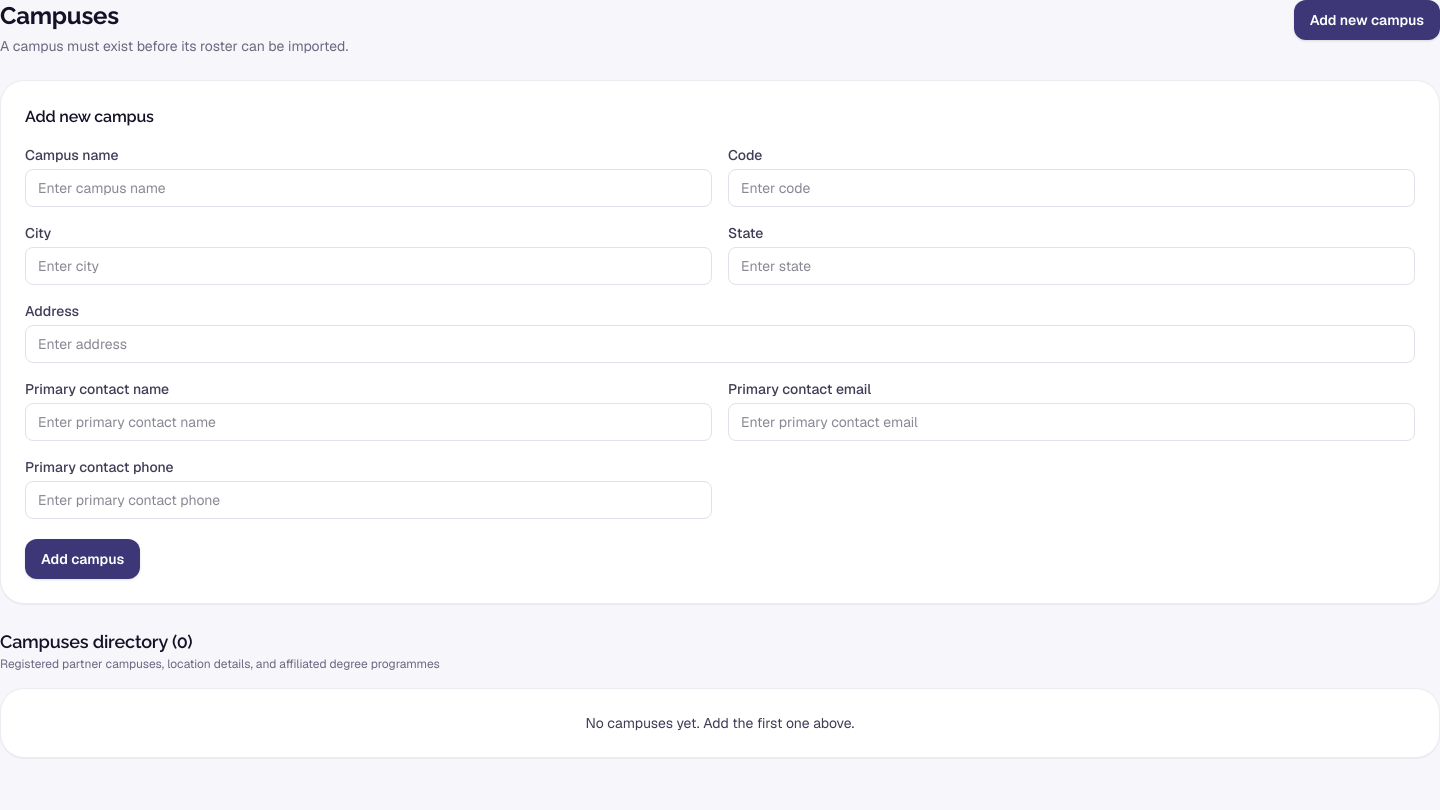
Test: CampusPage › refuses to submit an incomplete campus, and writes nothing
Type "Half Filled College" into the field labelled "Campus name" at {"x": 368, "y": 188}, box [25, 169, 712, 207]
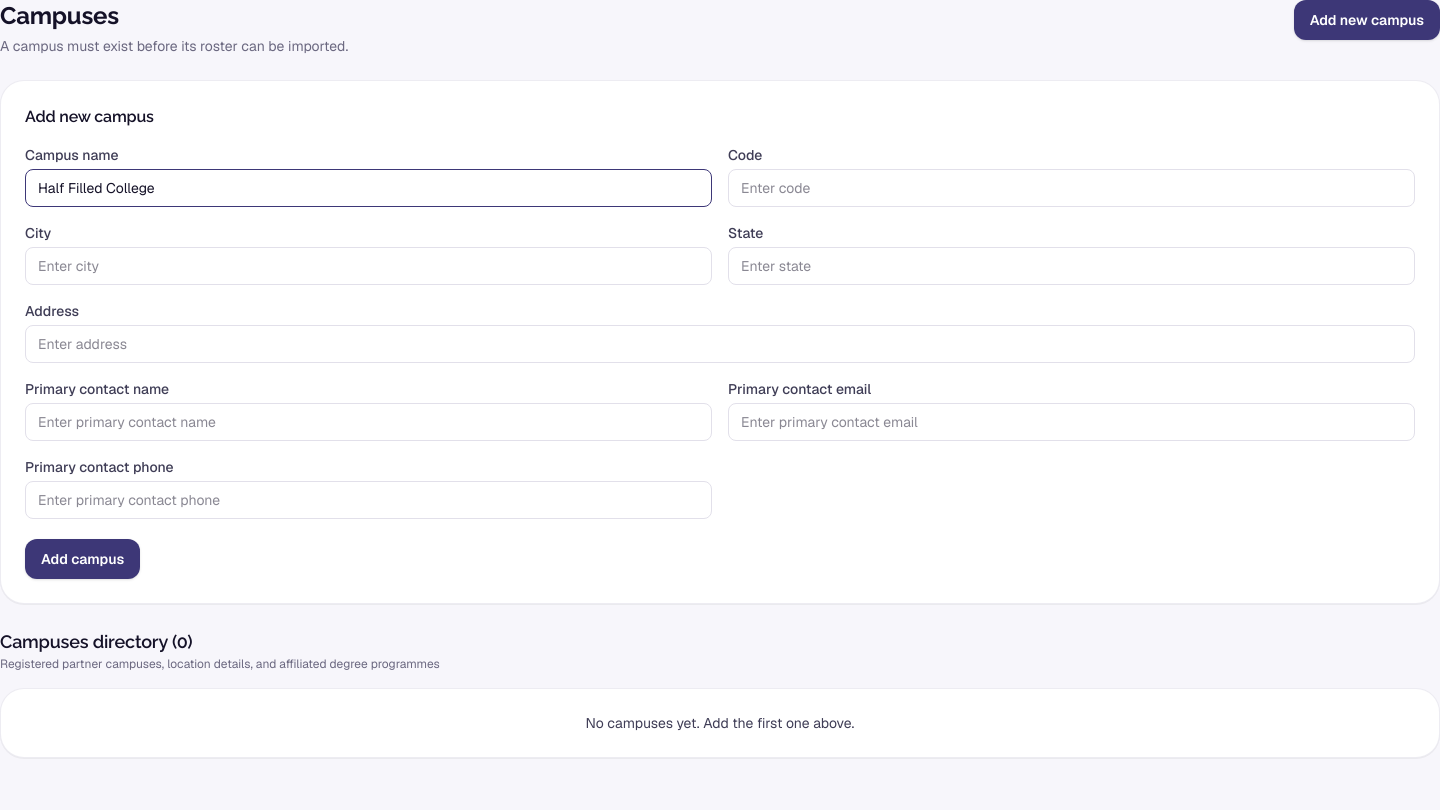
Click the button "Add campus" at {"x": 83, "y": 559}, box [25, 539, 140, 579]
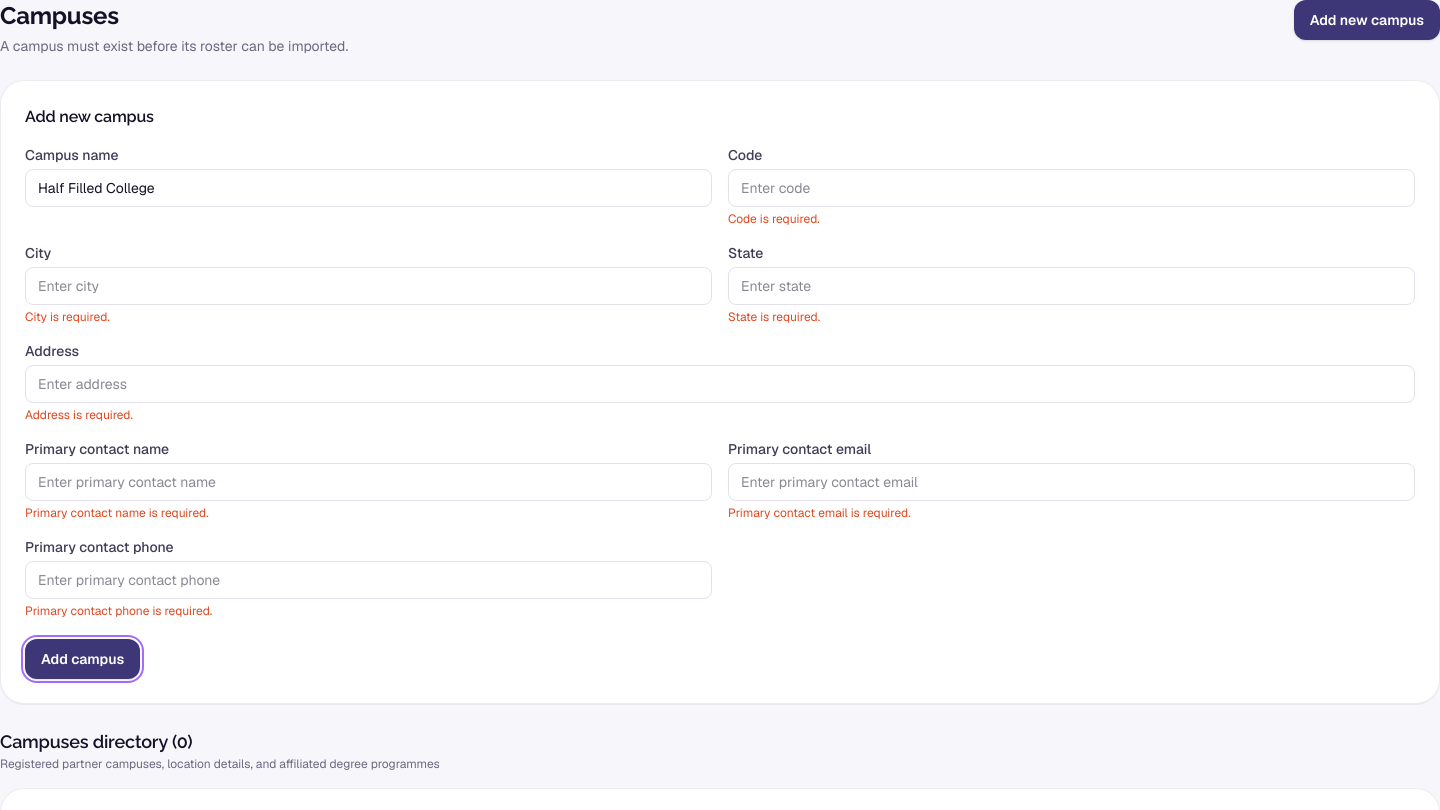
Expected: the text "Code is required." is shown 7 times
